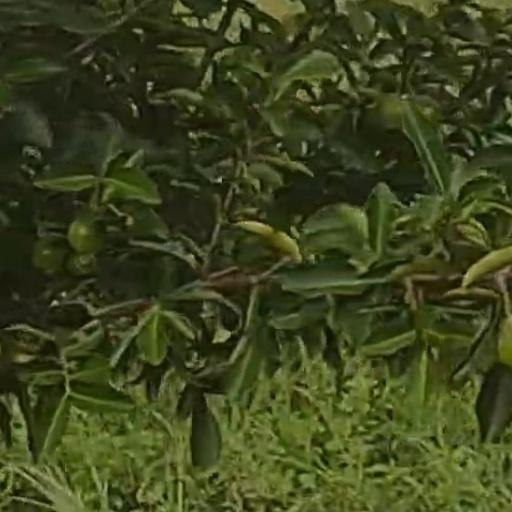acerola_verde: (68, 220, 105, 252)
